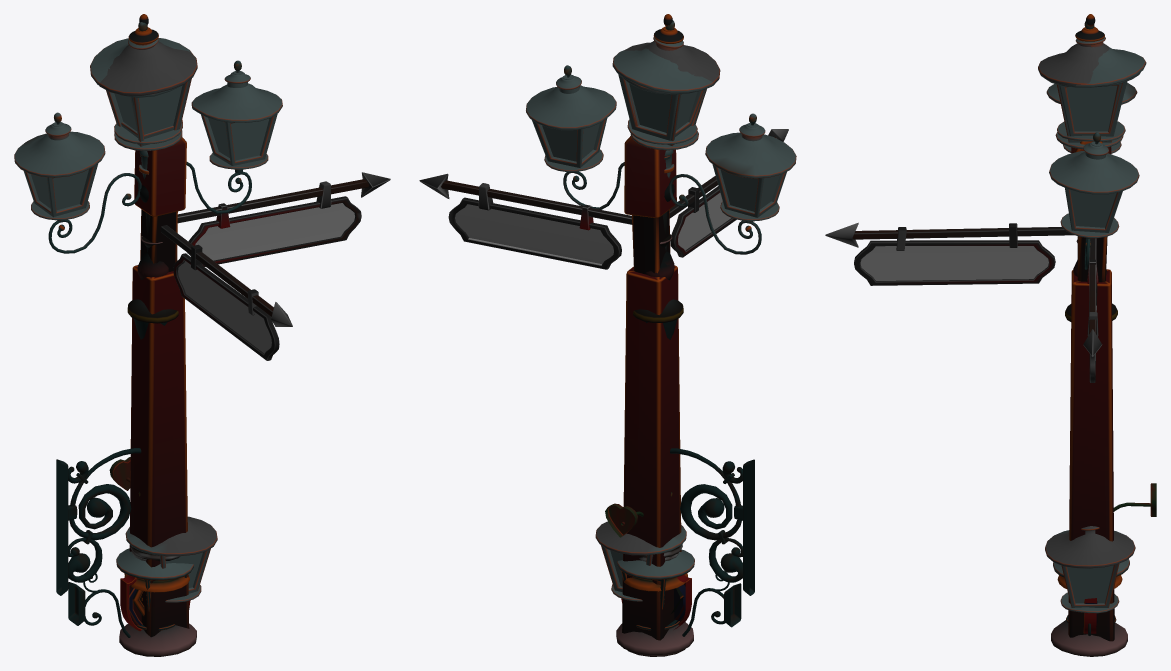
File: ModLights01.fbx
3 views of the same model, side by side, from view 1: azimuth 30°, elevation 25°; view 2: azimuth 150°, elevation 25°; view 3: azimuth 270°, elevation 25° (orthographic).
Visible parts, largest first — view 1: ModStreetNames01, ModStreetLight04, ModStreetLight03, ModStreetLight02, ModStreetLight01, ModBell01, ModHouseNumber02; view 2: ModStreetNames01, ModStreetLight04, ModStreetLight02, ModStreetLight03, ModStreetLight01, ModBell01; view 3: ModStreetNames01, ModStreetLight04, ModStreetLight01, ModStreetLight03, ModBell01.
Part boxes in pixels (x1,y1,x2,y2): ModStreetNames01: [129, 137, 390, 637]; ModStreetLight04: [14, 22, 282, 656]; ModStreetLight03: [99, 14, 197, 656]; ModStreetLight02: [56, 448, 193, 630]; ModStreetLight01: [68, 516, 217, 637]; ModBell01: [109, 457, 189, 592]; ModHouseNumber02: [120, 575, 190, 631]; ModStreetNames01: [419, 129, 788, 640]; ModStreetLight04: [526, 20, 796, 656]; ModStreetLight02: [617, 448, 754, 630]; ModStreetLight03: [616, 14, 720, 655]; ModStreetLight01: [595, 521, 741, 636]; ModBell01: [605, 503, 687, 591]; ModStreetNames01: [825, 141, 1114, 641]; ModStreetLight04: [1046, 21, 1146, 656]; ModStreetLight01: [1045, 526, 1135, 635]; ModStreetLight03: [1038, 14, 1140, 656]; ModBell01: [1057, 483, 1156, 588].
Bounding box in the file's own units: 2.09 × 3.4 × 1.64.
